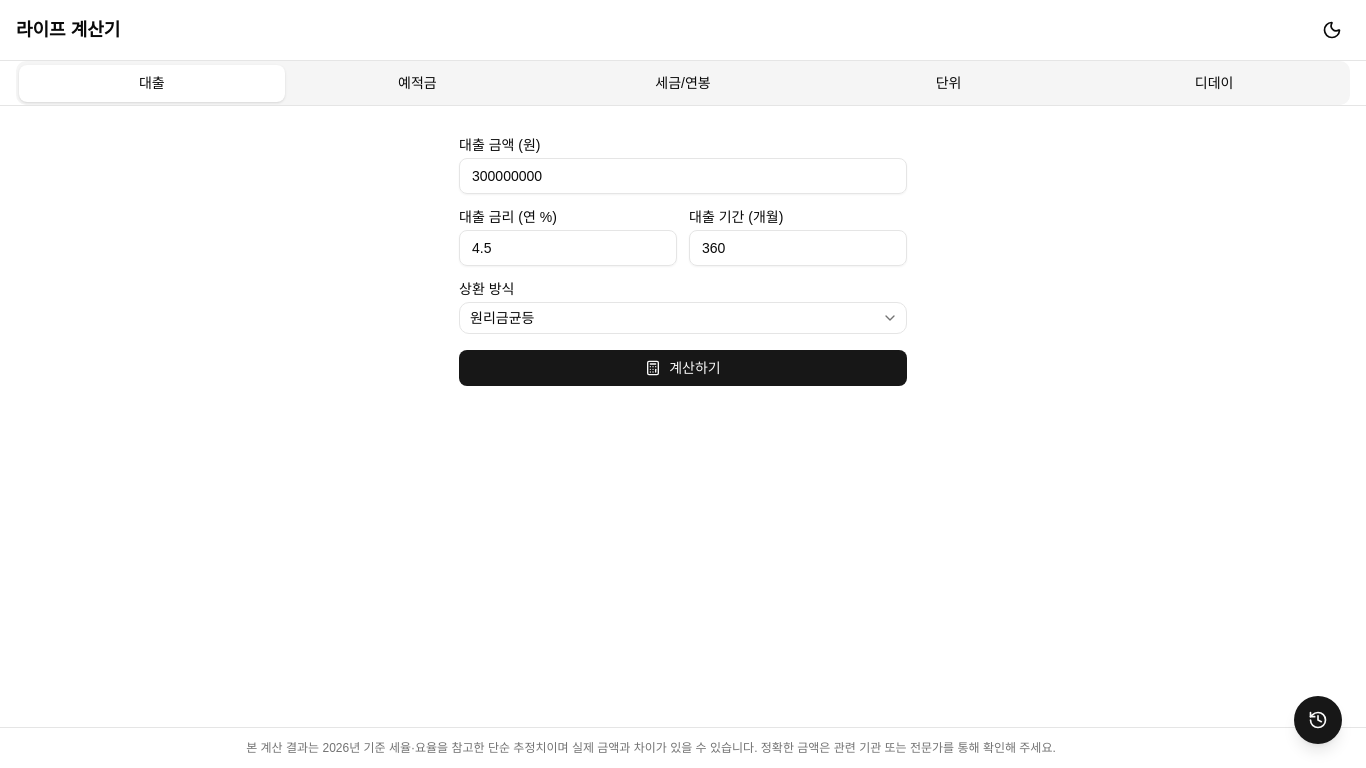
Scenario: App › switches panels when a different tab is clicked
Click the tab "예적금".
click(417, 83)  # box [285, 64, 550, 102]
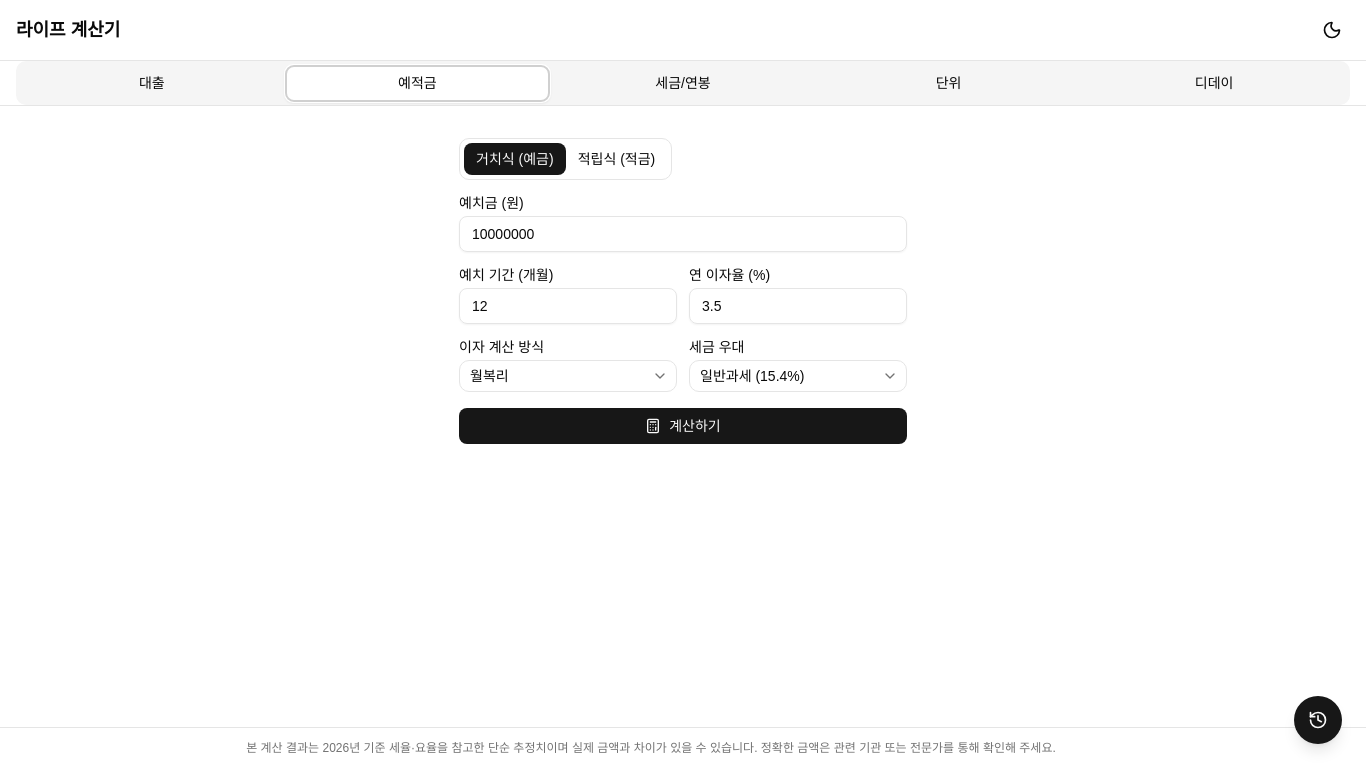
Result: the button "거치식 (예금)" is shown at [464, 143, 566, 175]
Click the tab "단위".
click(949, 83)  # box [816, 64, 1081, 102]
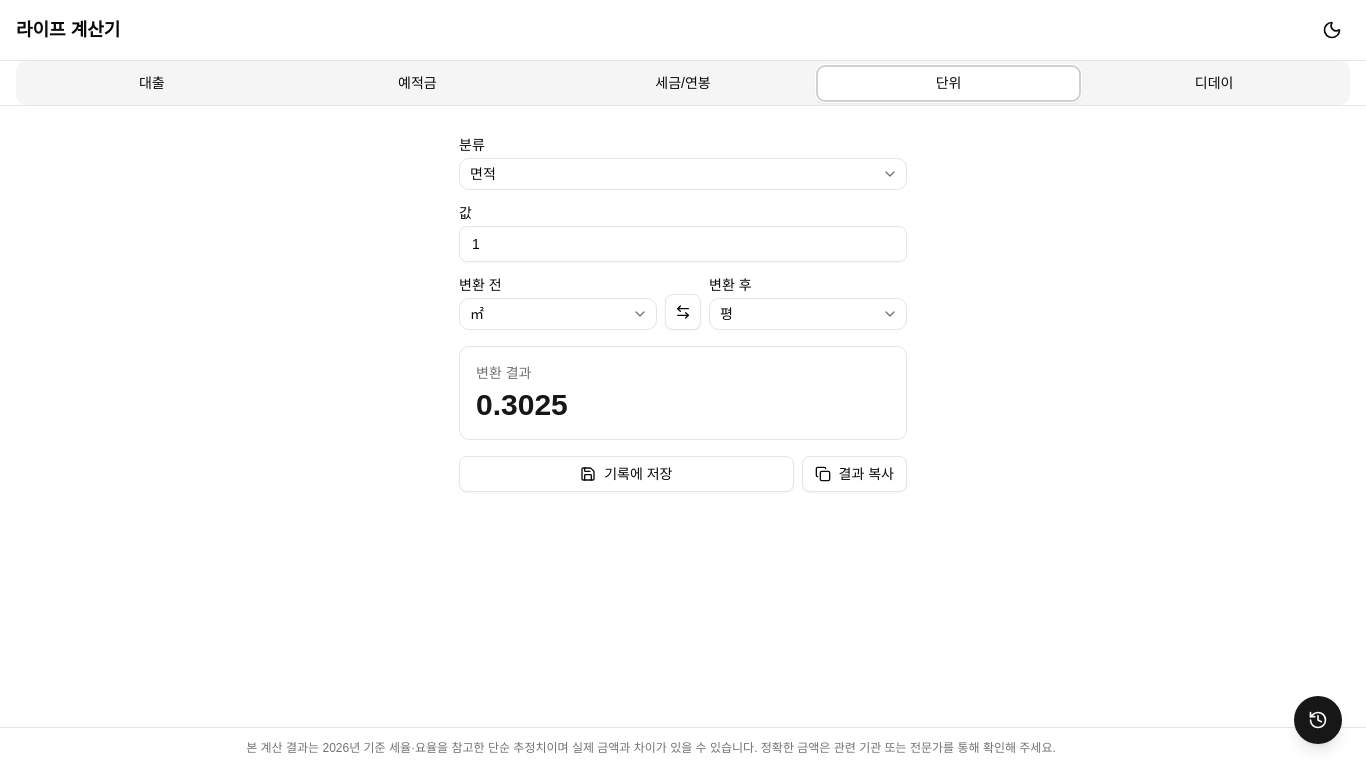
Result: the field labelled "값" is shown at [459, 226, 907, 262]
